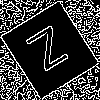Z: (25, 25, 76, 80)
